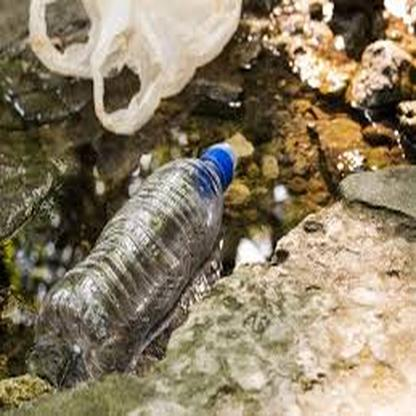plastic bag: (28, 2, 245, 134)
plastic bottle: (35, 145, 234, 338)
